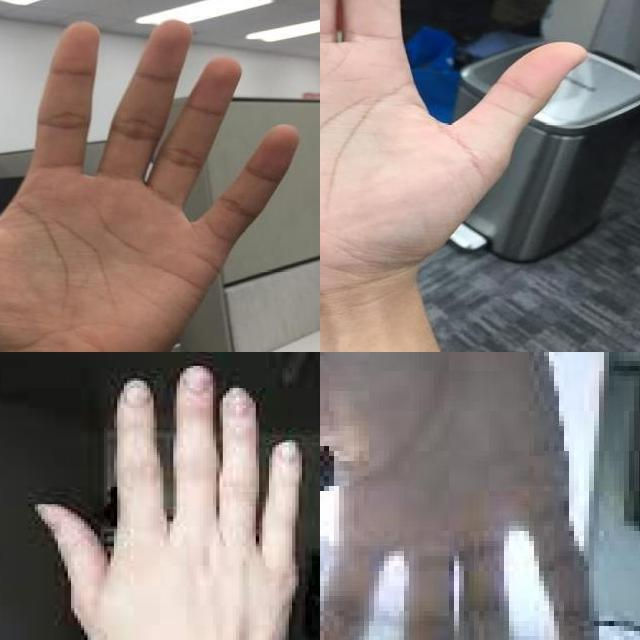hand: (0, 19, 304, 352), (320, 0, 590, 332), (33, 352, 320, 640), (320, 352, 604, 640)
